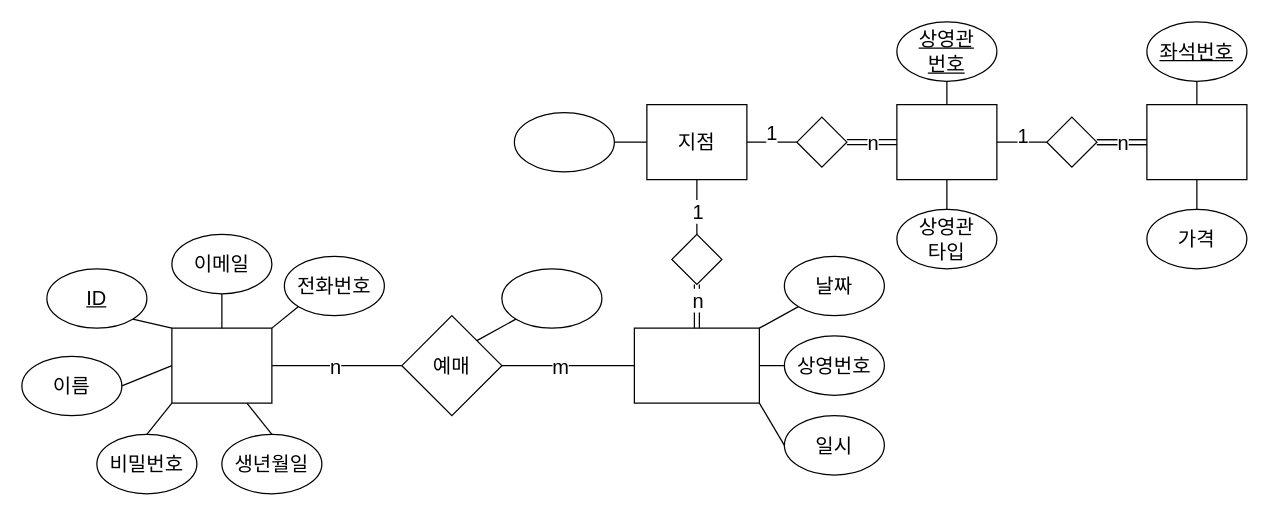
Image size: 1269x516. Some labels were removed from this diagram. The box of each missing label's shape, as (x1, y1, x2, y2) in pixels:
고객: (171, 327, 272, 403)
상영 스케줄: (633, 327, 759, 403)
상영관: (896, 103, 997, 180)
예매번호: (501, 268, 602, 328)
좌석: (1146, 103, 1247, 180)
지점명: (513, 111, 614, 172)
